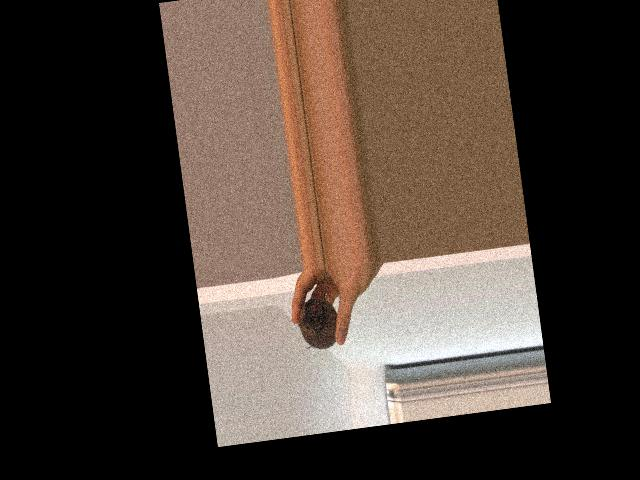beet: (291, 266, 342, 352)
